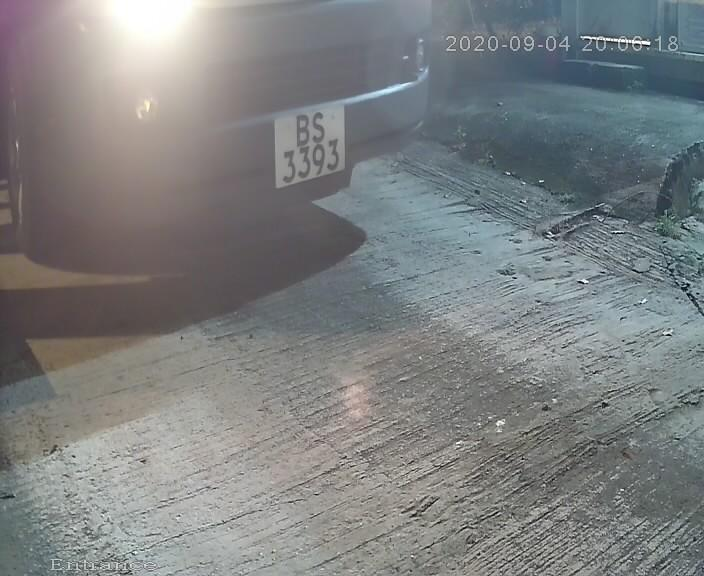License Plate: (261, 85, 356, 201)
